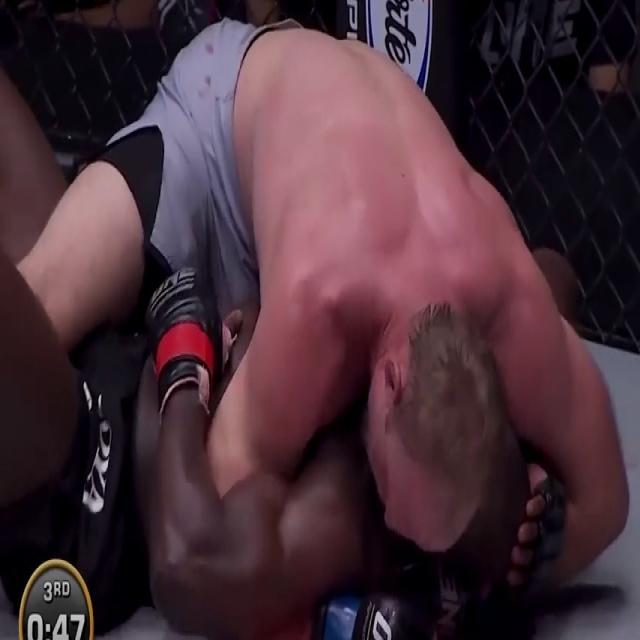fight: (11, 0, 622, 639)
